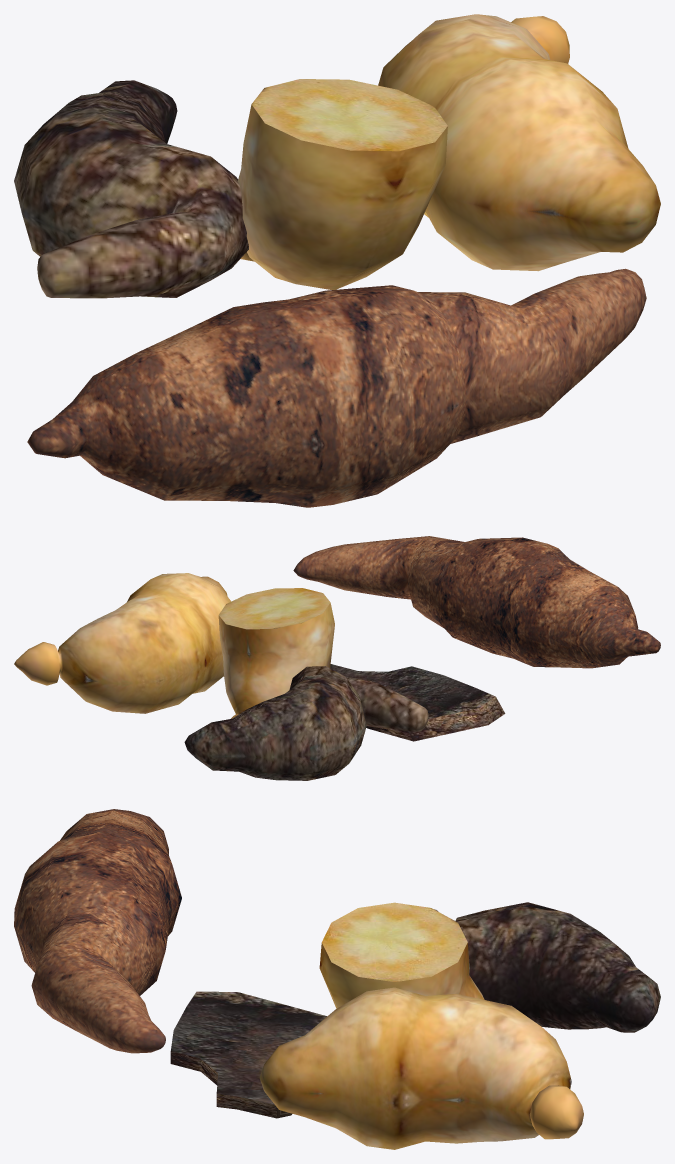
The model's file is dihuang.FBX.
3 views of the same model, one above another, from view 1: azimuth 30°, elevation 25°; view 2: azimuth 150°, elevation 25°; view 3: azimuth 270°, elevation 25° (orthographic). The views are drawn at different scales.
Parts seen in each view (by area): view 1: Cylinder004, Cylinder001, Cylinder003, Cylinder002; view 2: Cylinder004, Cylinder001, Cylinder003, Cylinder002, Line001; view 3: Cylinder001, Cylinder004, Cylinder003, Cylinder002, Line001.
Part boxes in pixels (x1,y1,x2,y2): Cylinder004: [27, 268, 646, 507]; Cylinder001: [378, 14, 660, 271]; Cylinder003: [14, 80, 248, 298]; Cylinder002: [238, 79, 447, 289]; Cylinder004: [293, 536, 660, 668]; Cylinder001: [14, 573, 230, 713]; Cylinder003: [184, 666, 428, 780]; Cylinder002: [218, 588, 334, 718]; Line001: [330, 664, 505, 741]; Cylinder001: [259, 987, 583, 1149]; Cylinder004: [14, 809, 181, 1053]; Cylinder003: [434, 902, 660, 1032]; Cylinder002: [319, 902, 484, 1008]; Line001: [170, 991, 326, 1118].
Size of the model in its own units: 80.69 by 21.72 by 73.65.
1 material, 1 textured.
